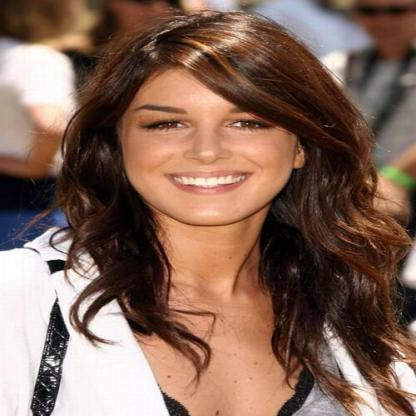long-hair: (80, 226, 343, 298)
